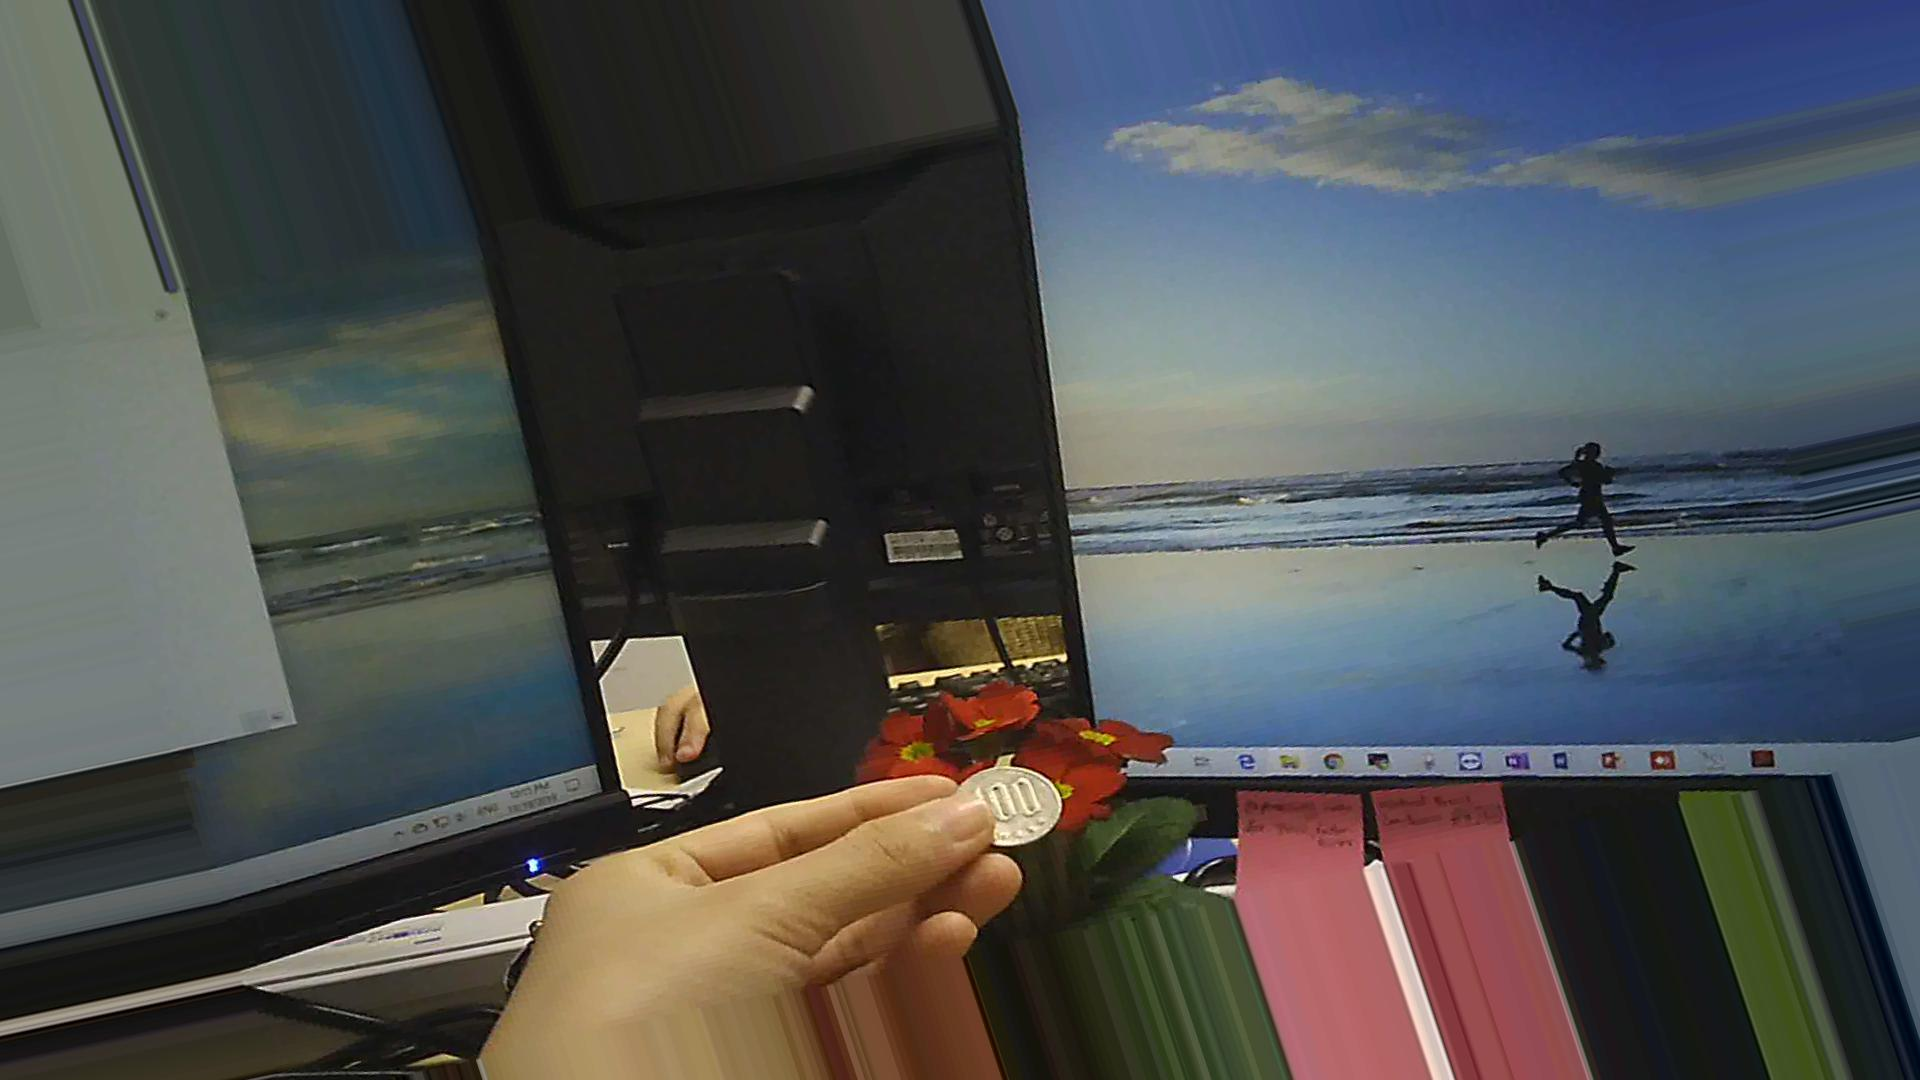100 Yen: (938, 760, 1073, 851)
